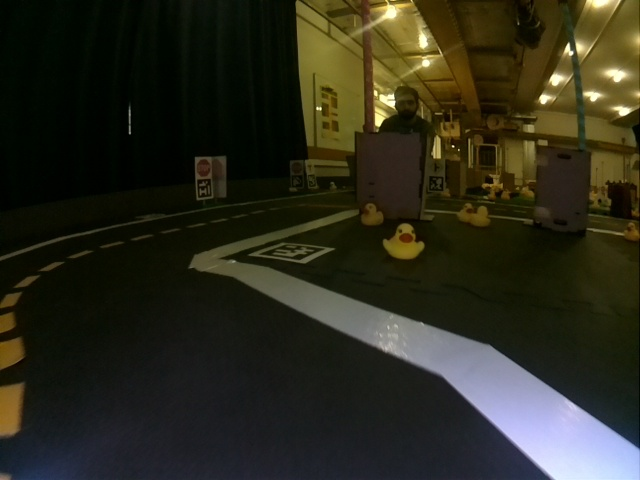Duckie: (383, 226, 424, 259), (362, 204, 383, 225), (473, 207, 490, 227), (457, 203, 472, 221), (624, 224, 638, 241), (328, 182, 338, 191)
Intersection sign: (430, 160, 444, 173)
QR code: (253, 243, 333, 263), (197, 178, 213, 199), (429, 176, 445, 192), (292, 176, 303, 187), (307, 175, 317, 187)
Stop sign: (196, 158, 211, 176), (290, 161, 303, 174)
